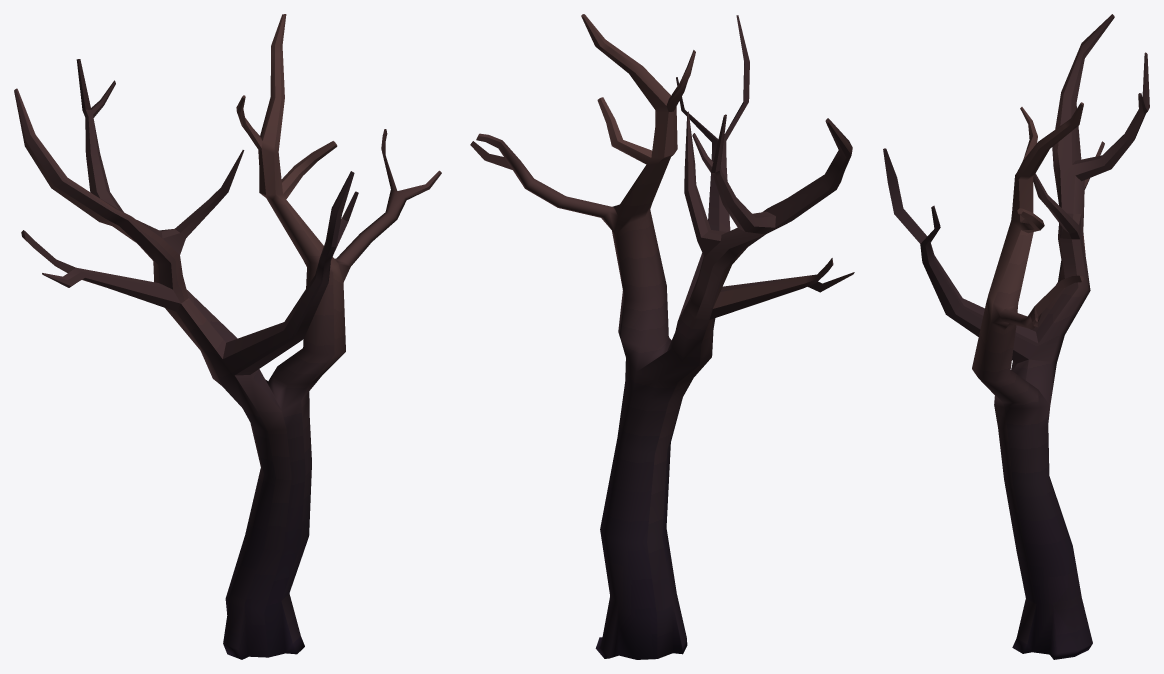
Rendered from Dead_Tree1.fbx.
3 views of the same model, side by side, from view 1: azimuth 30°, elevation 25°; view 2: azimuth 150°, elevation 25°; view 3: azimuth 270°, elevation 25° (orthographic). The views are drawn at different scales.
Parts seen in each view (by area): view 1: Dead_Tree1; view 2: Dead_Tree1; view 3: Dead_Tree1.
Part boxes in pixels (left/top/right/bottom): Dead_Tree1: left=14, top=14, right=441, bottom=659; Dead_Tree1: left=470, top=14, right=854, bottom=659; Dead_Tree1: left=883, top=14, right=1149, bottom=659.
Bounding box in the file's own units: 14.06 × 20.91 × 9.07.
